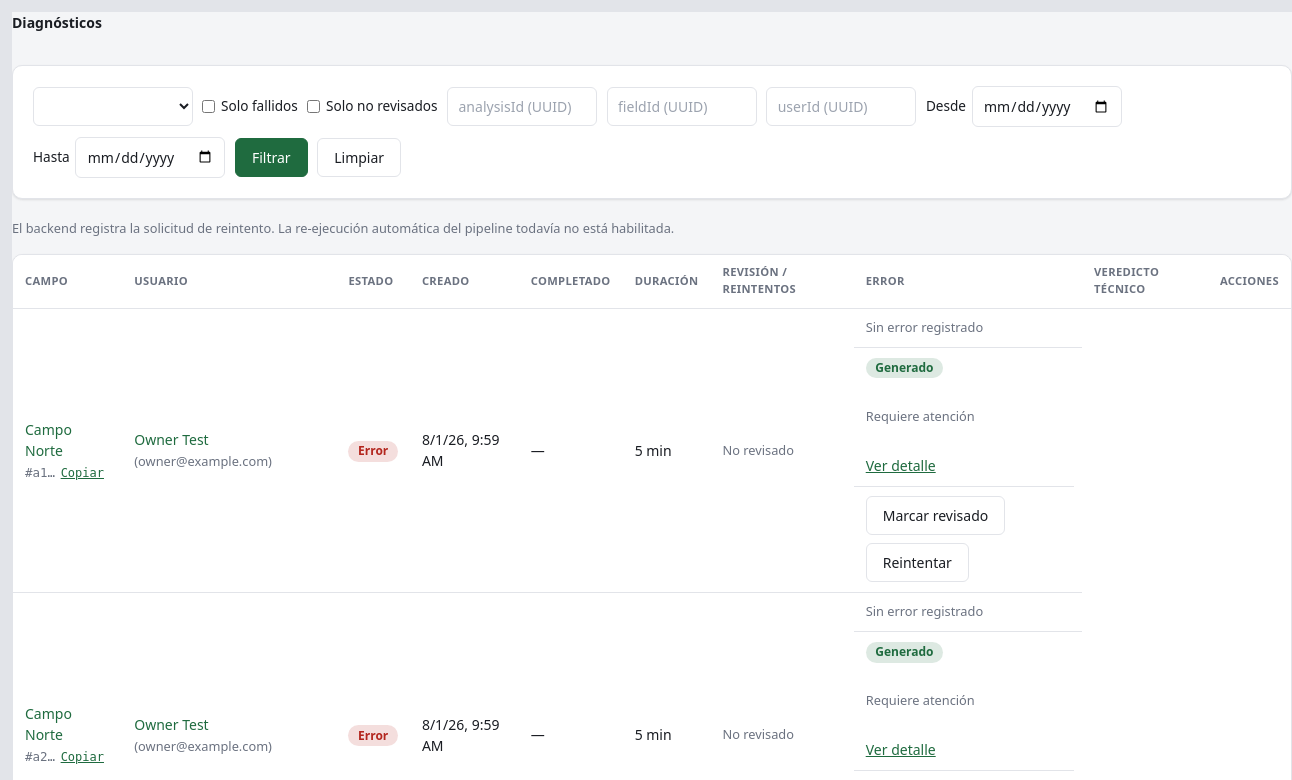
Test case: AnalysisComponent › Veredicto técnico (PR 13A) › el toggle "Ver detalle" expande y colapsa de forma independiente por fila
Click the button "Ver detalle" in the row of "#a1…" at (901, 466), box x1=866 y1=455 x2=936 y2=476
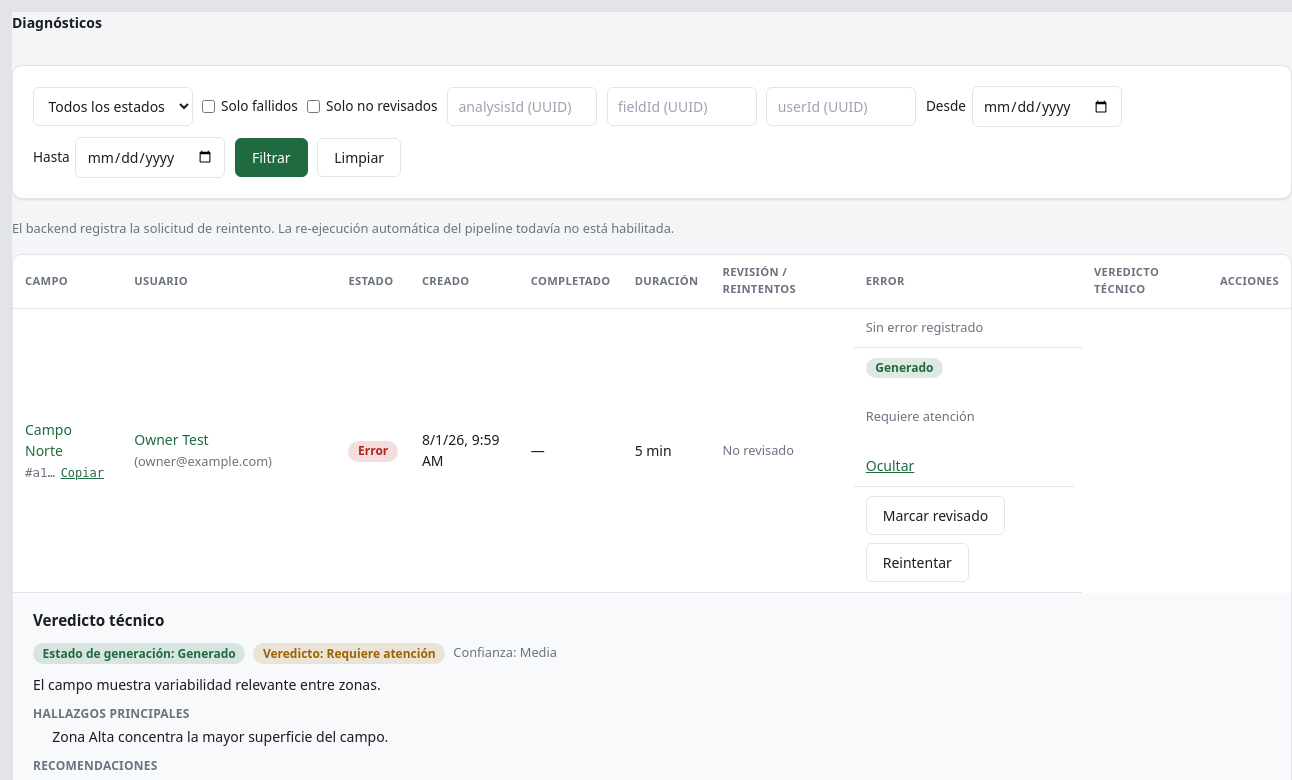
Now the button "Ocultar" is shown, box x1=866 y1=455 x2=914 y2=476
